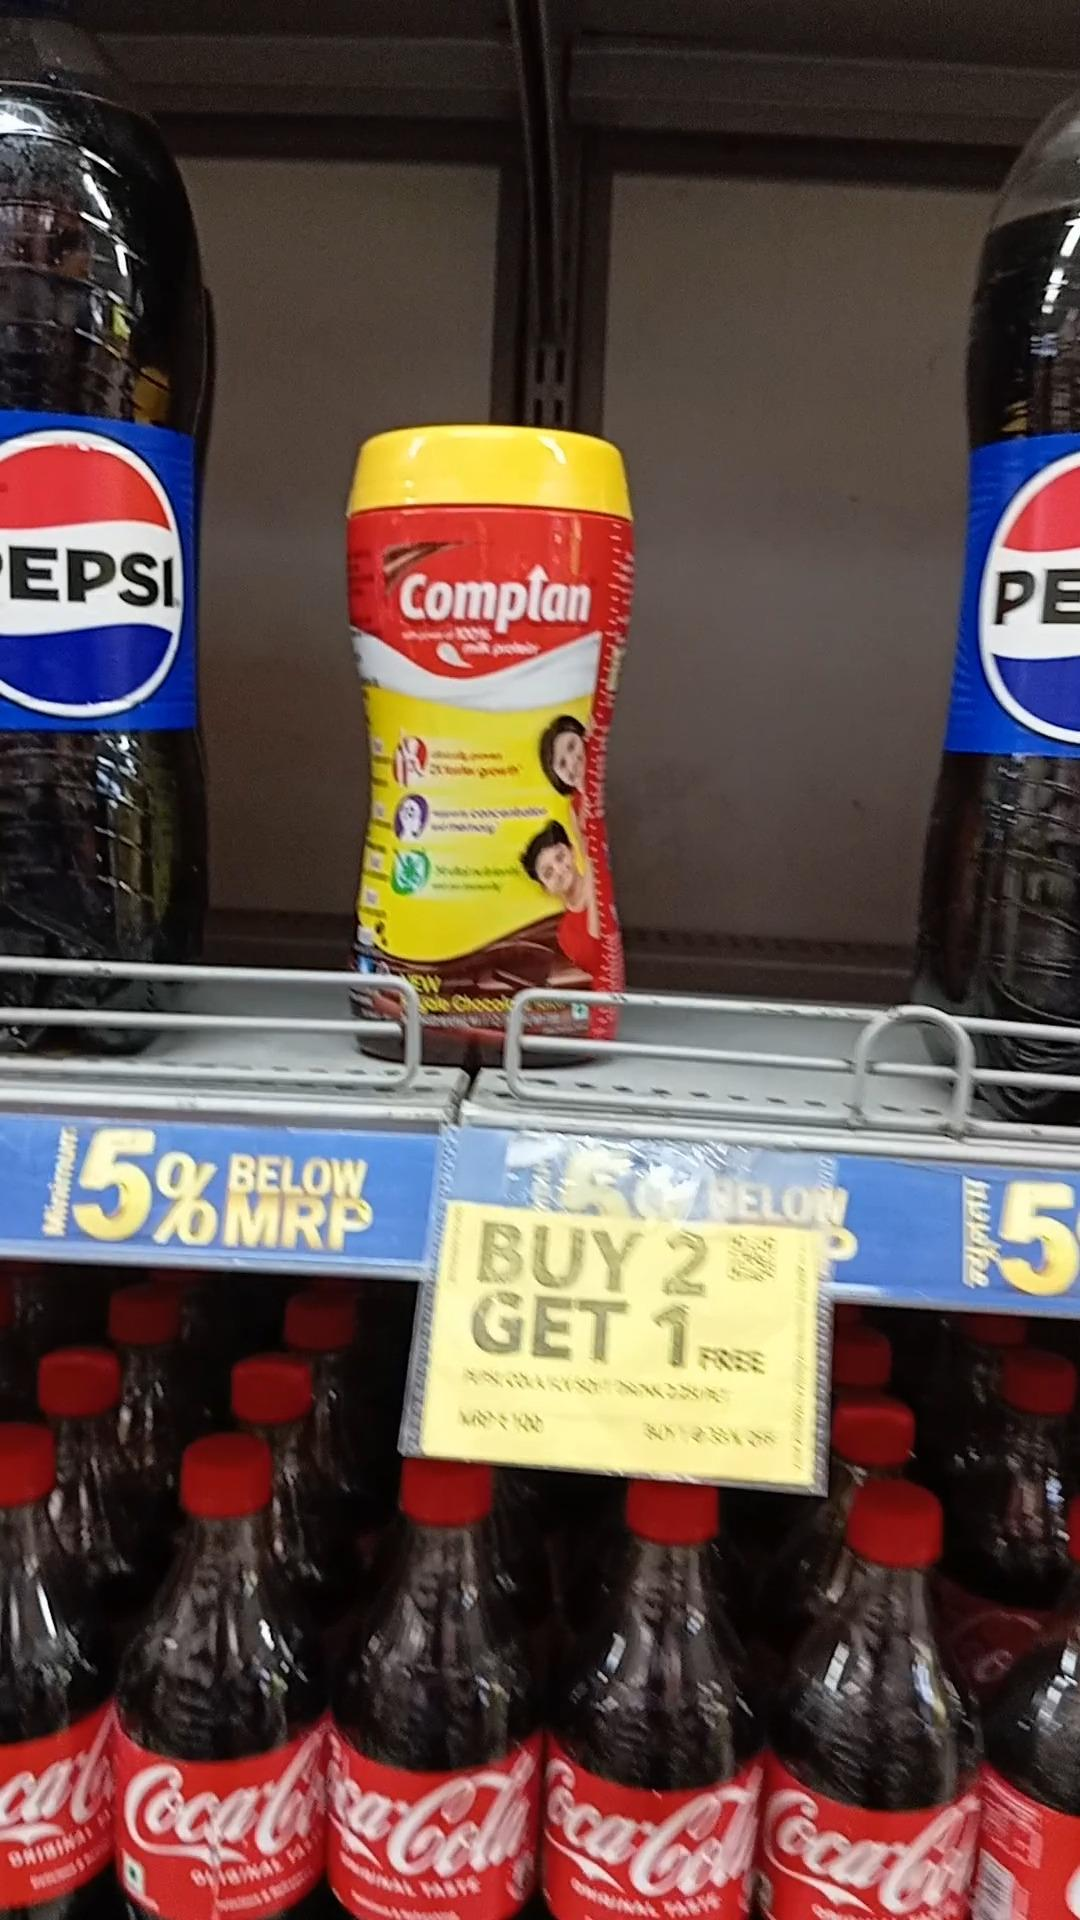COMPLAN_CHOCOLATE_500_GMS_JAR: (356, 404, 618, 1064)
